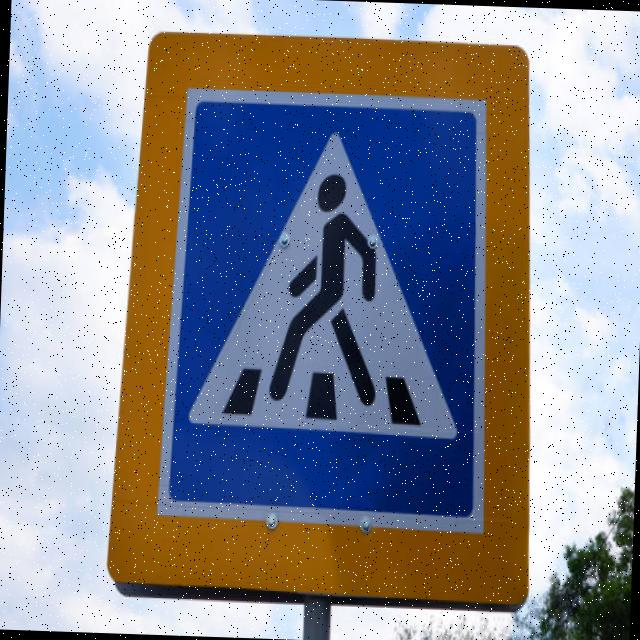crosswalk: (146, 78, 507, 539)
